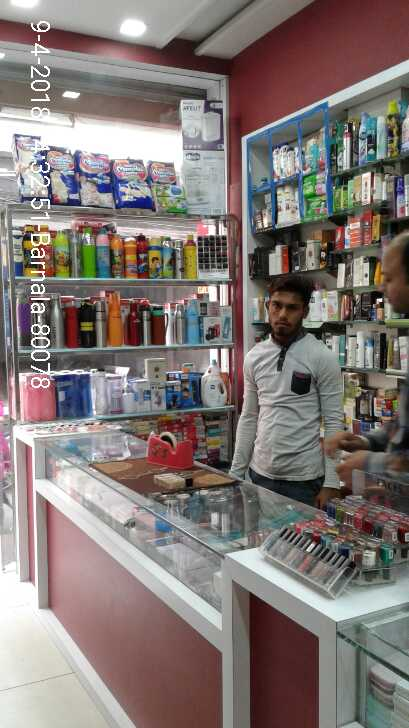ambipureVesus: (359, 110, 367, 165)
